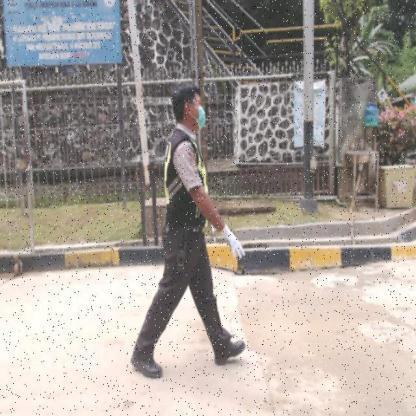boots: (210, 339, 246, 366), (128, 352, 164, 378)
gloves: (218, 220, 247, 262)
mask: (196, 106, 206, 130)
